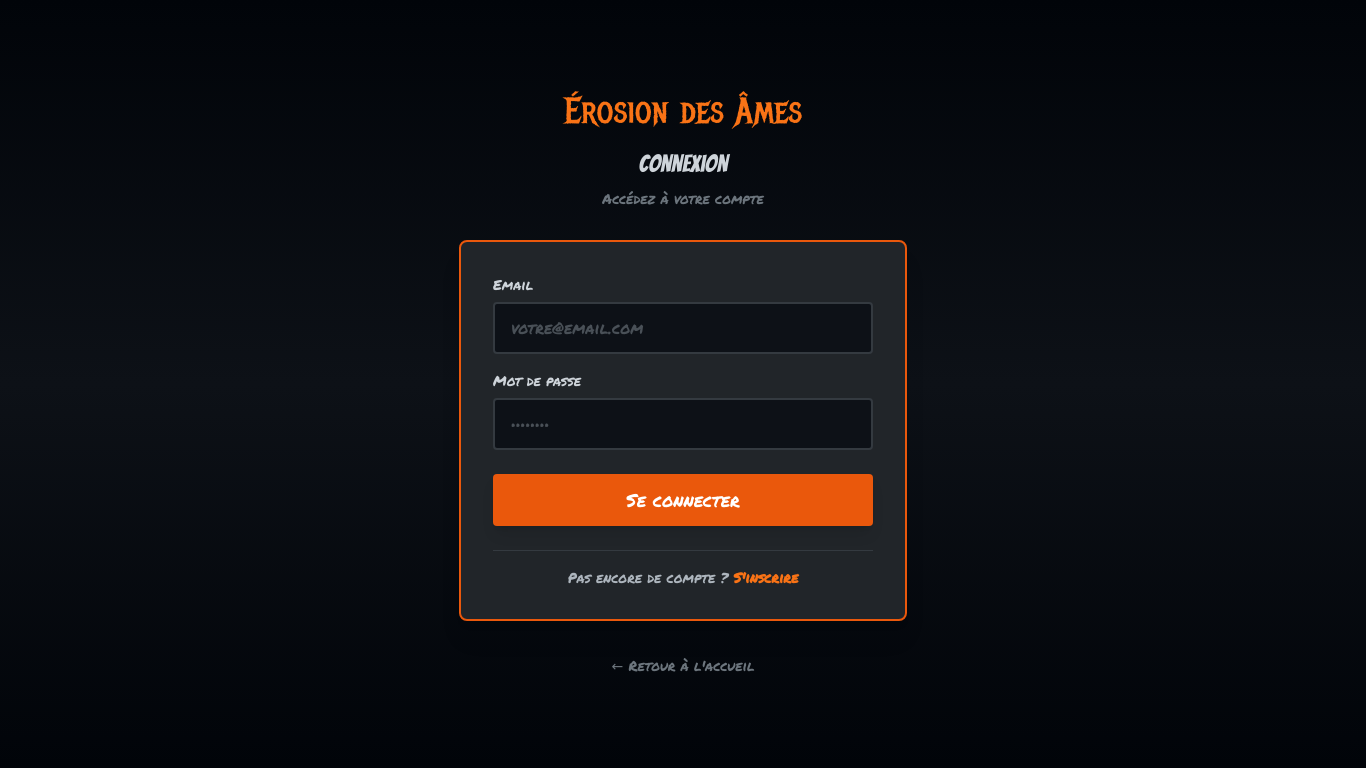
it: Login › should clear error message when user types
Provoquer une erreur
Type "test@test.com" into the field labelled "Email" at coordinates (683, 328), box [493,302,873,354]
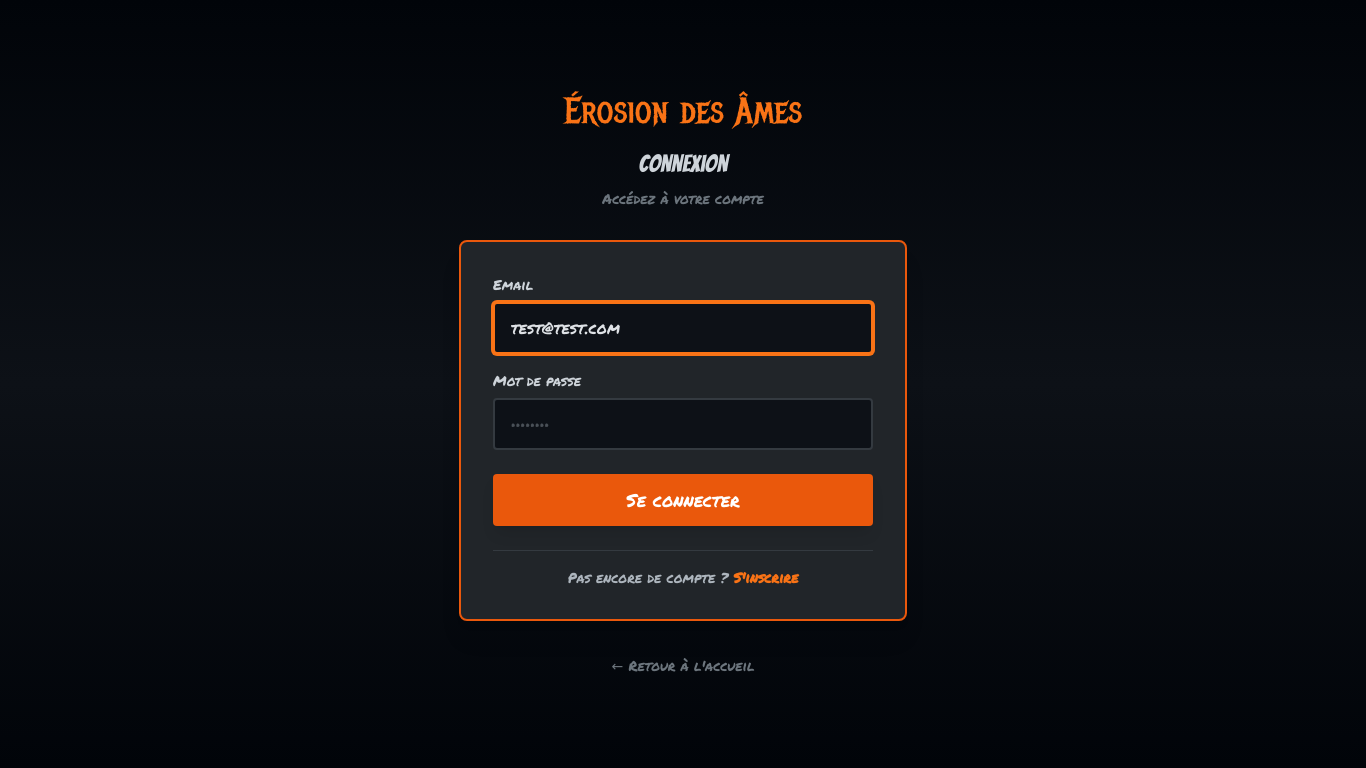
Type "wrong" into the password field labelled "Mot de passe" at coordinates (683, 424), box [493,398,873,450]
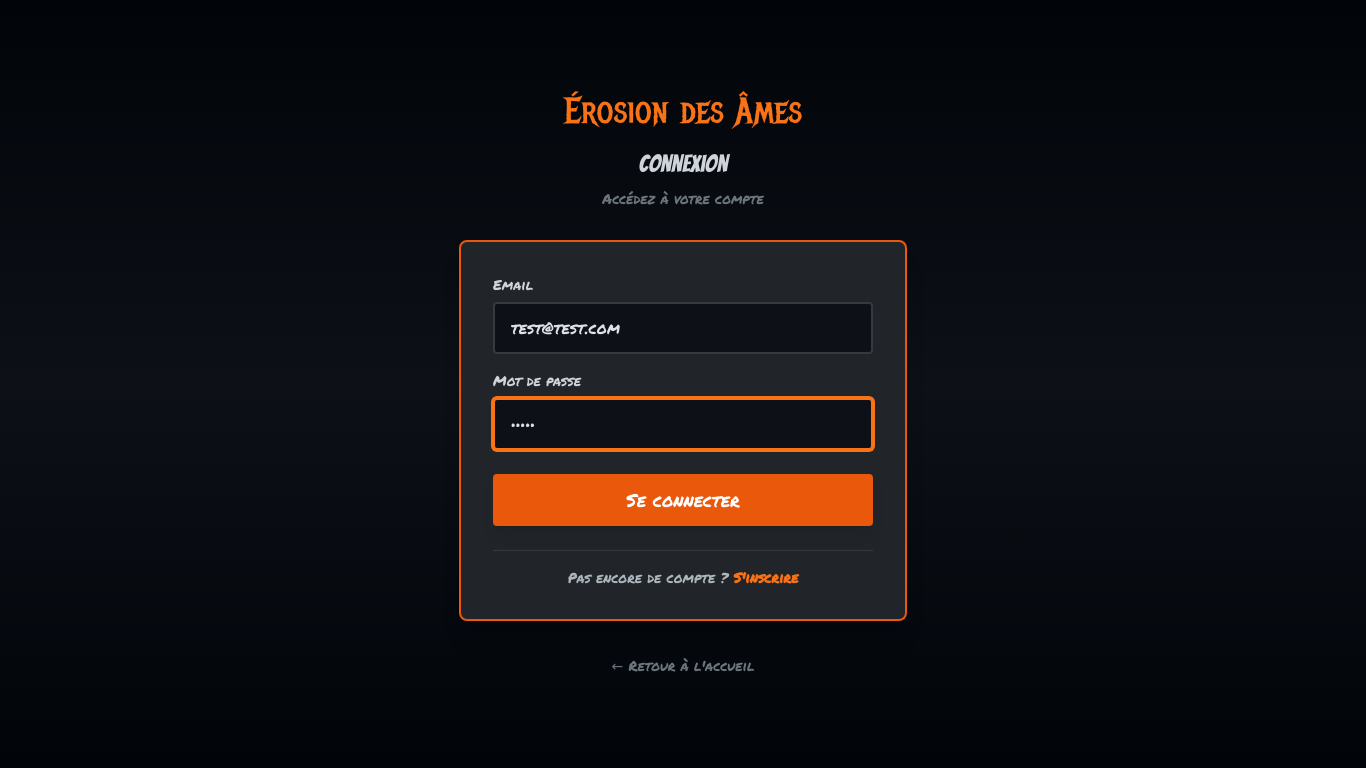
Click the button "Se connecter" at coordinates (683, 500), box [493,474,873,526]
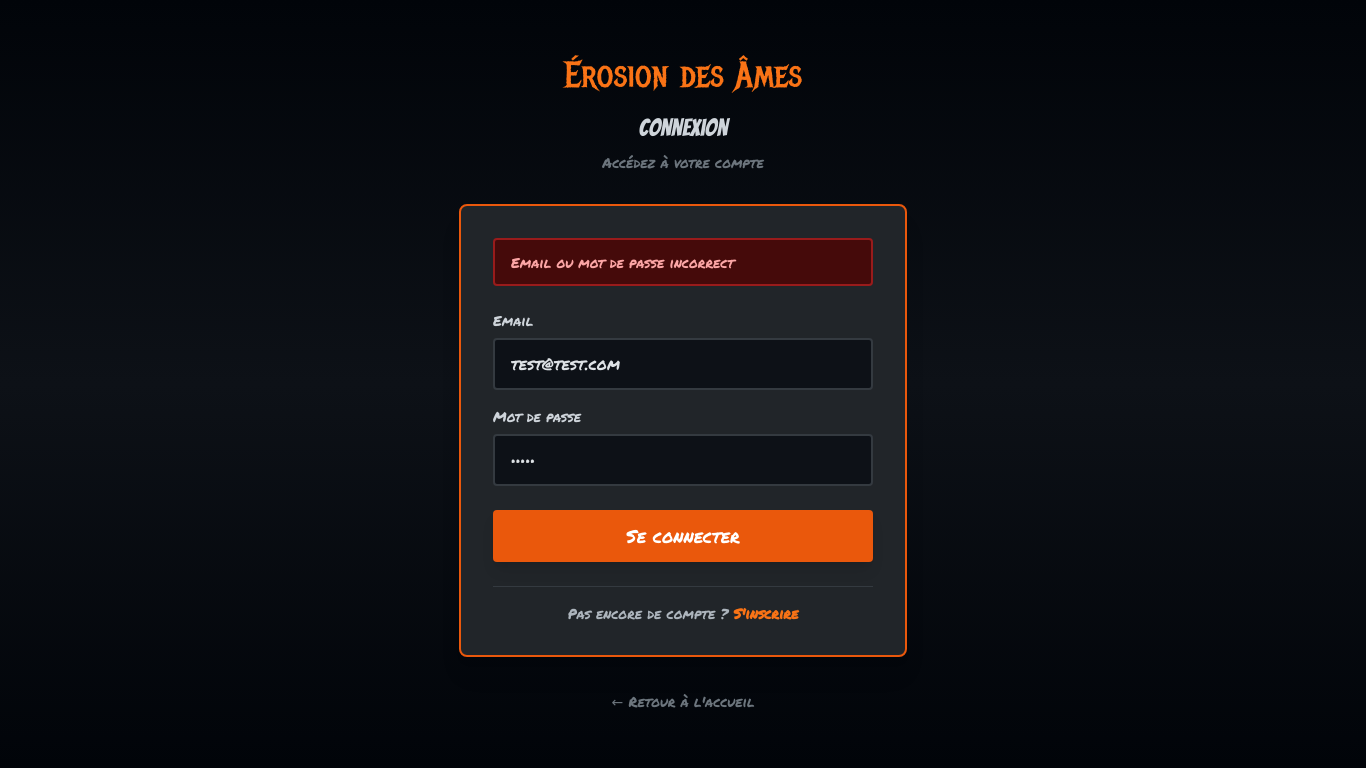
Expected: the text "Email ou mot de passe incorrect" is shown, [493,238,873,286]
Taper dans le champ devrait effacer l'erreur
Type "x" into the field labelled "Email" at coordinates (683, 364), box [493,338,873,390]
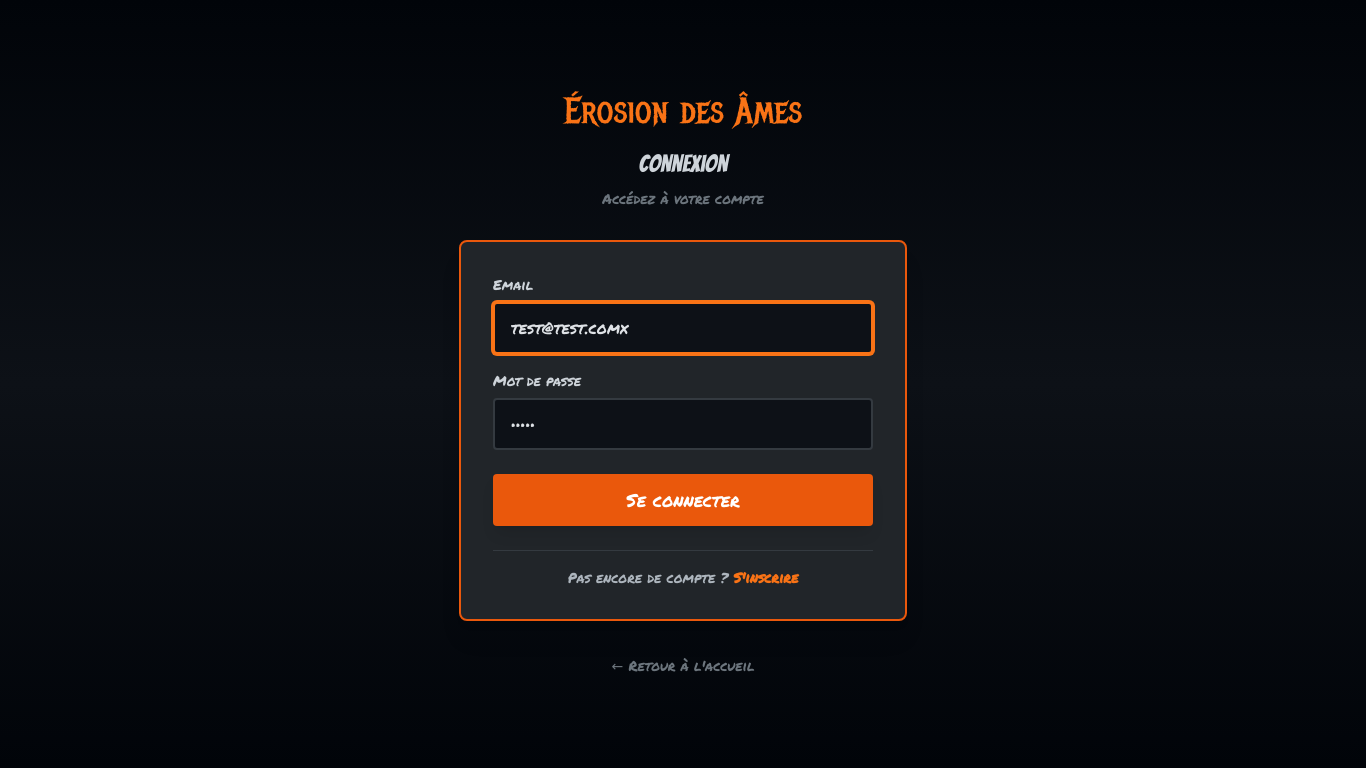
Expected: the text "Email ou mot de passe incorrect" is gone
